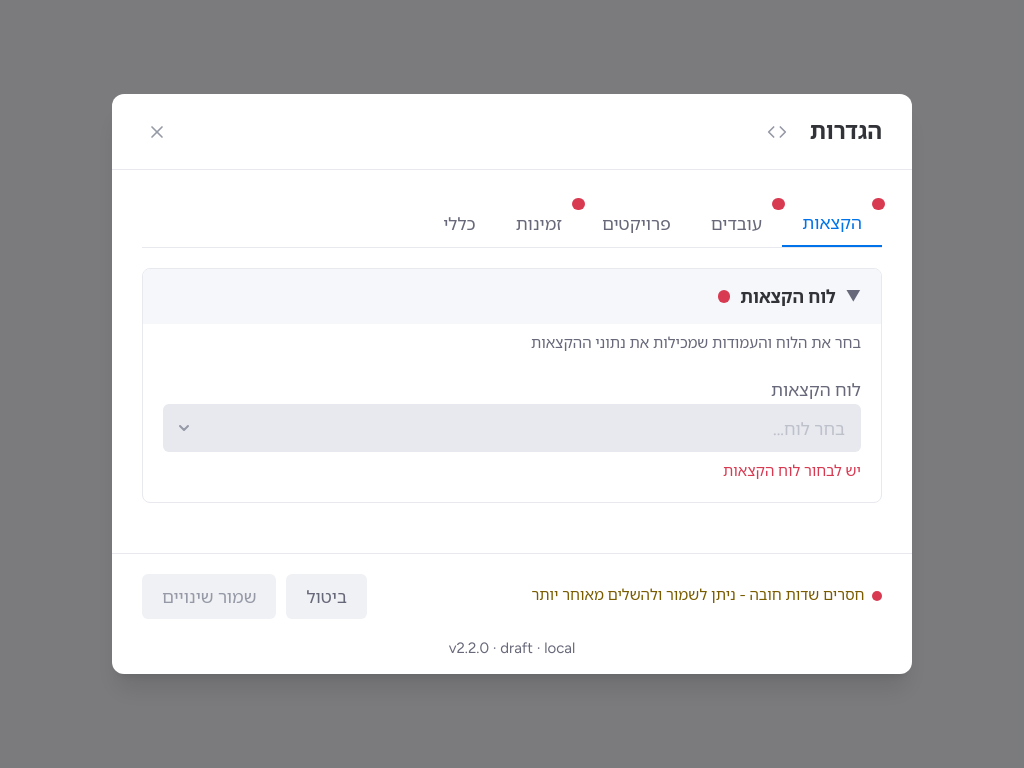
Test: SettingsDialog — Day-off availability tab (W3.6) › D2 toggle controls ONLY the approved-labels multi-select; the approval column + rejected labels survive toggling (DEV-2)
What coordinates should you click on to do the following:
click the button "זמינות"
I would click on:
 (539, 224)
Its box is [496, 200, 582, 247].
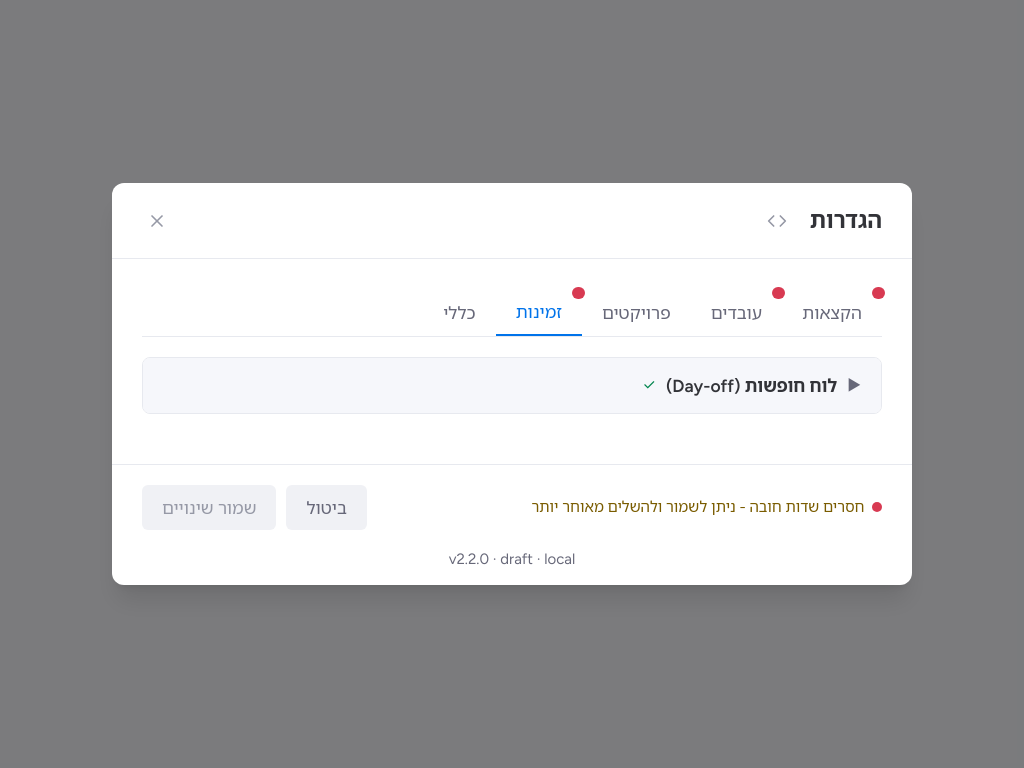
What coordinates should you click on to do the following:
click the heading "לוח חופשות (Day-off)"
I would click on:
 (752, 386)
Its box is [666, 373, 837, 398].
(page scrolled)
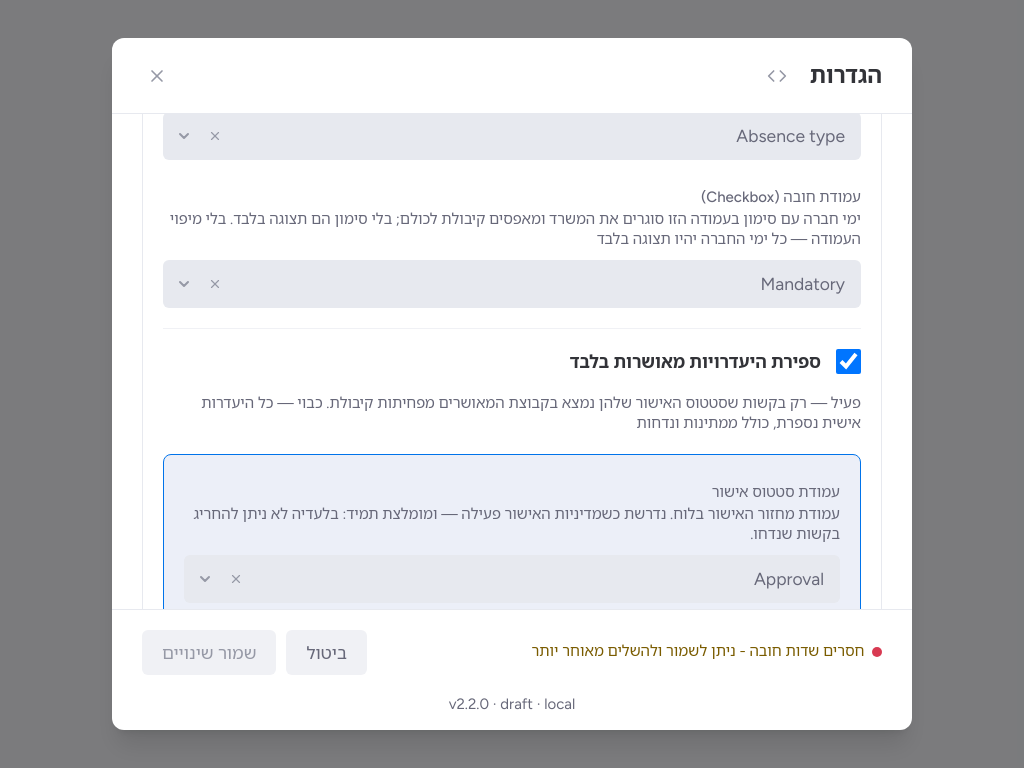
Result: the text "עמודת סטטוס אישור" is shown at [712, 483, 840, 501]
Result: the checkbox labelled "ספירת היעדרויות מאושרות בלבד" is checked
What coordinates should you click on to do the following:
click the checkbox labelled "ספירת היעדרויות מאושרות בלבד"
I would click on:
 (848, 361)
Its box is [836, 349, 861, 374].
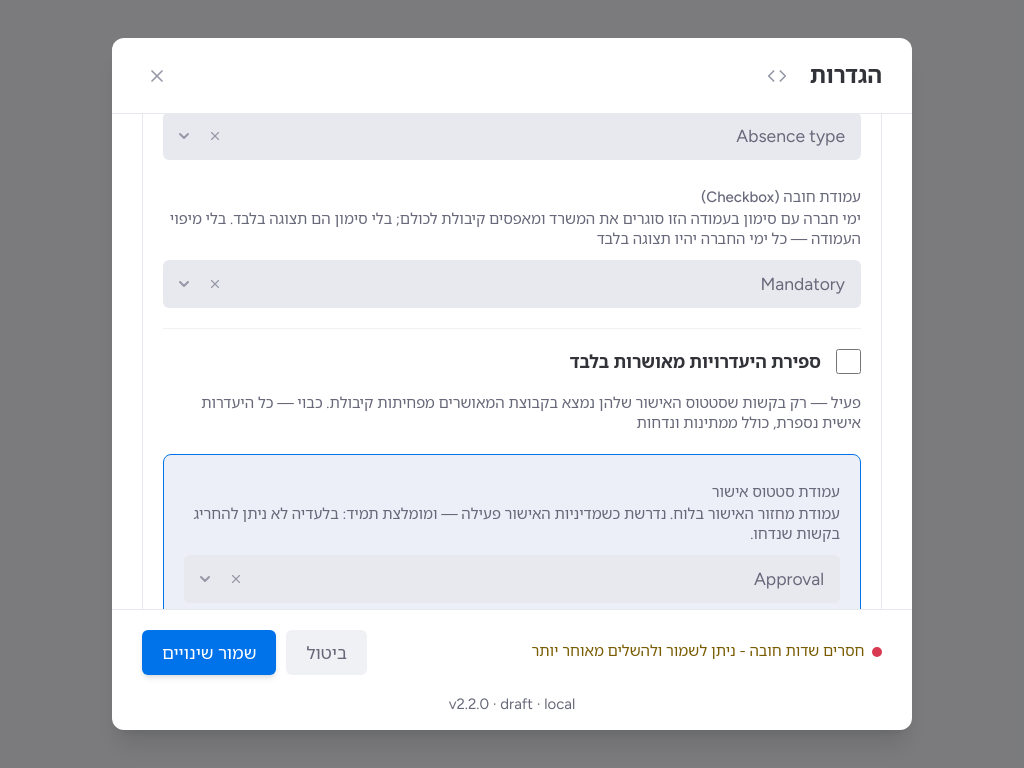
Expected: the text "סטטוסים שנחשבים מאושרים" is not shown
Result: the text "עמודת סטטוס אישור" is shown at [712, 483, 840, 501]
What coordinates should you click on to do the following:
click the checkbox labelled "ספירת היעדרויות מאושרות בלבד"
I would click on:
 (848, 361)
Its box is [836, 349, 861, 374].
(page scrolled)
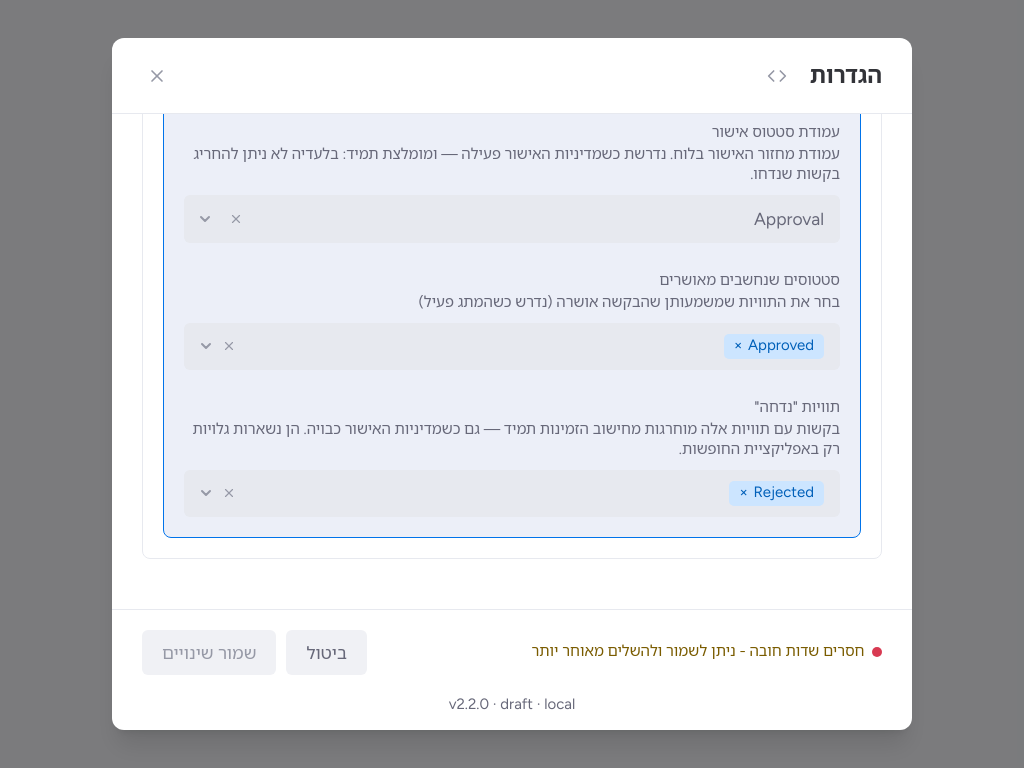
Result: the text "סטטוסים שנחשבים מאושרים" is shown at [659, 271, 840, 289]
Result: the text "תוויות \"נדחה\"" is shown at [754, 398, 840, 416]
